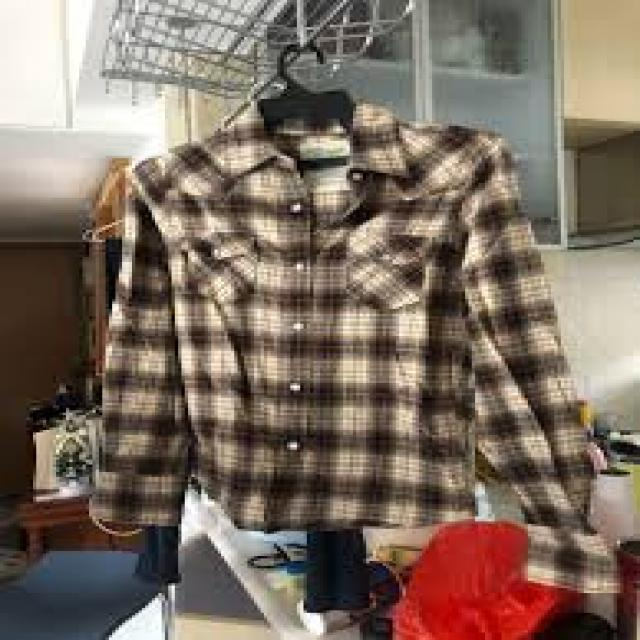plaid: (89, 117, 596, 530)
